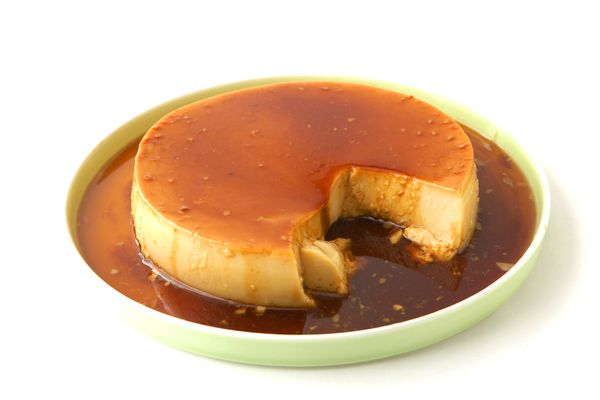sushi: (41, 63, 555, 367)
